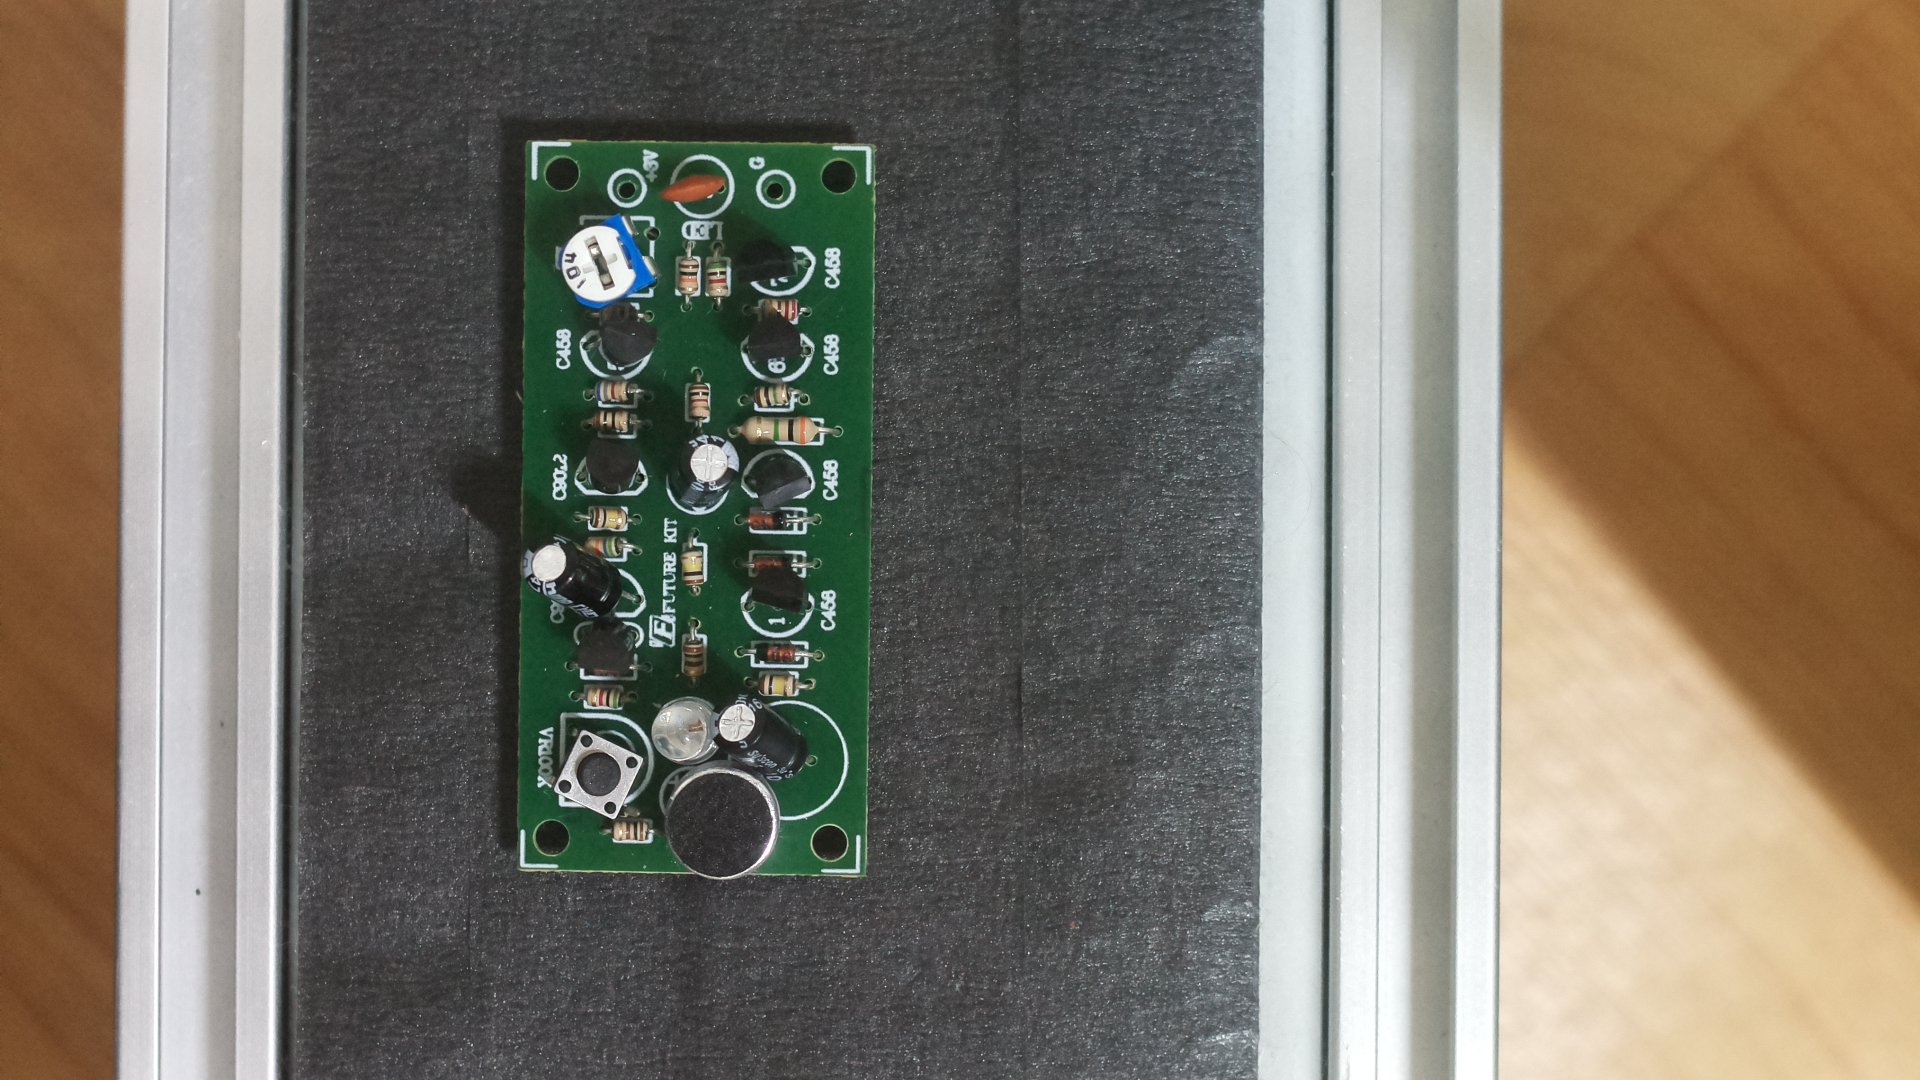A_Misordered: (498, 111, 906, 895)
